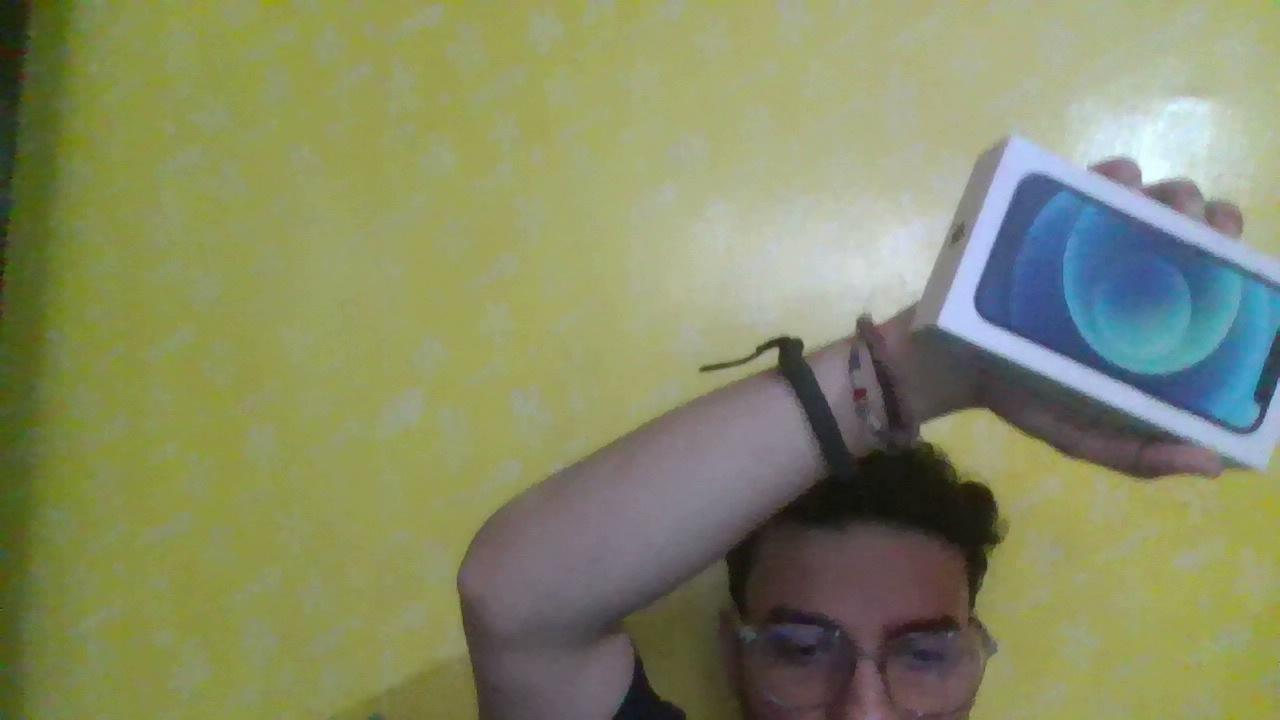Phone: (893, 116, 1280, 471)
